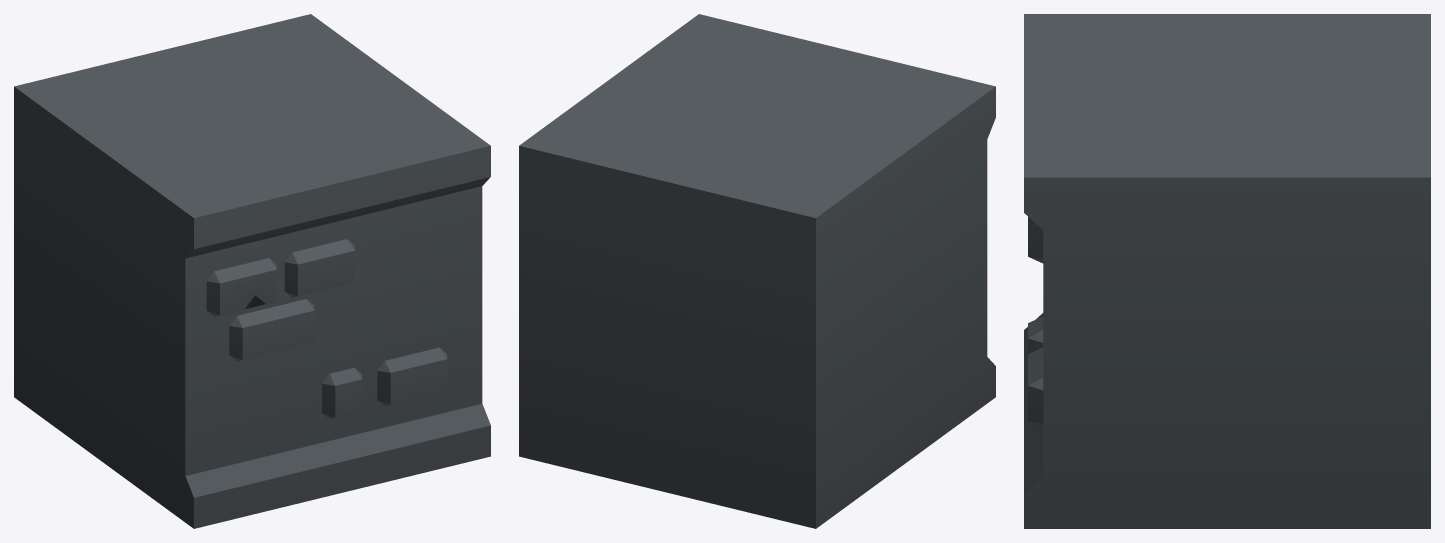
Rendered from floor_foundation_front.gltf.
3 renders of one model, left to right at view 1: azimuth 30°, elevation 25°; view 2: azimuth 150°, elevation 25°; view 3: azimuth 270°, elevation 25°, orthographic. The views are drawn at different scales.
Visible parts, largest first — view 1: floor_foundation_front; view 2: floor_foundation_front; view 3: floor_foundation_front.
Part boxes in pixels (x1,y1,x2,y2): floor_foundation_front: [14, 14, 490, 528]; floor_foundation_front: [519, 14, 995, 528]; floor_foundation_front: [1024, 14, 1430, 528].
Size of the model in its own units: 2 by 2 by 2.1.
Materials: 1 (1 with a texture image).
